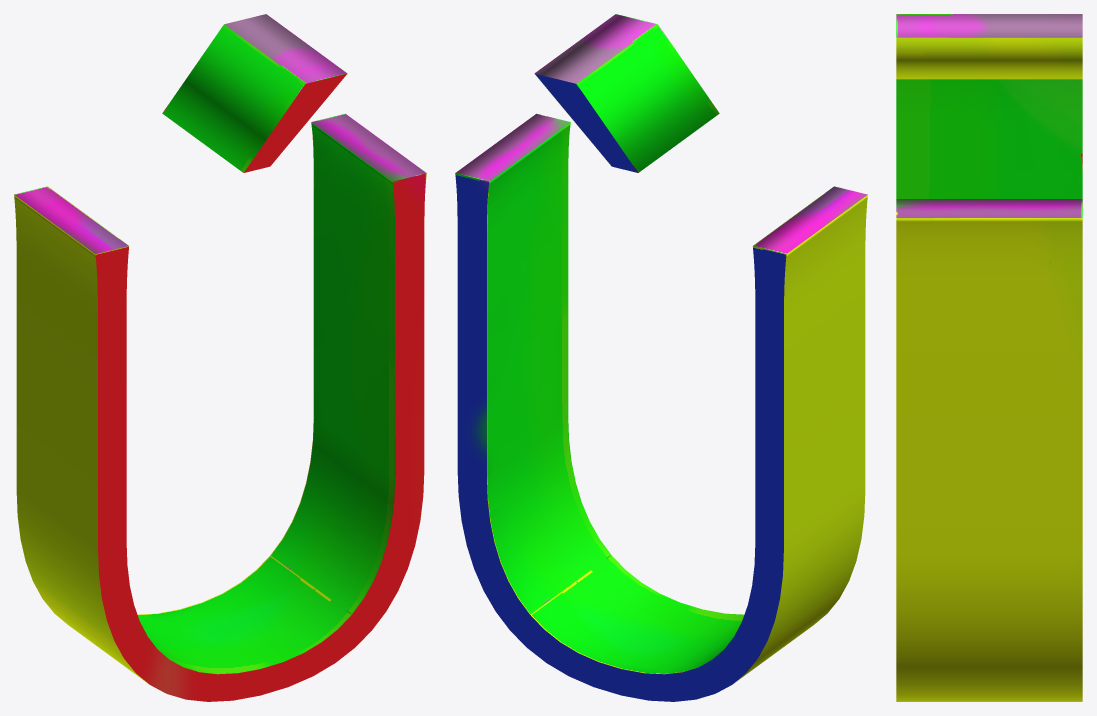
3 renders of one model, left to right at view 1: azimuth 30°, elevation 25°; view 2: azimuth 150°, elevation 25°; view 3: azimuth 270°, elevation 25°, orthographic. The views are drawn at different scales.
Parts seen in each view (by area): view 1: Text; view 2: Text; view 3: Text.
Boxes of the visible parts, x1,y1,x2,y2 form: Text: (14, 14, 426, 701); Text: (455, 14, 867, 701); Text: (896, 14, 1082, 701).
Bounding box in the file's own units: 0.4232 × 0.7328 × 0.18.
Materials: 1 (1 with a texture image).
